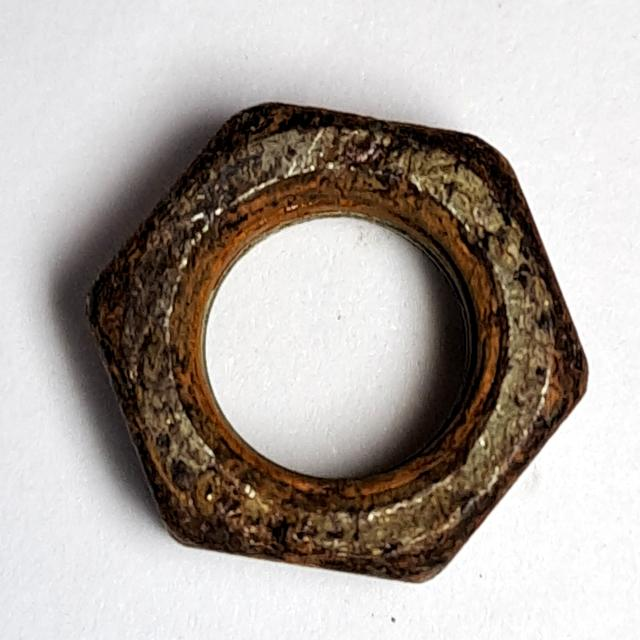Rust: (68, 85, 603, 600)
